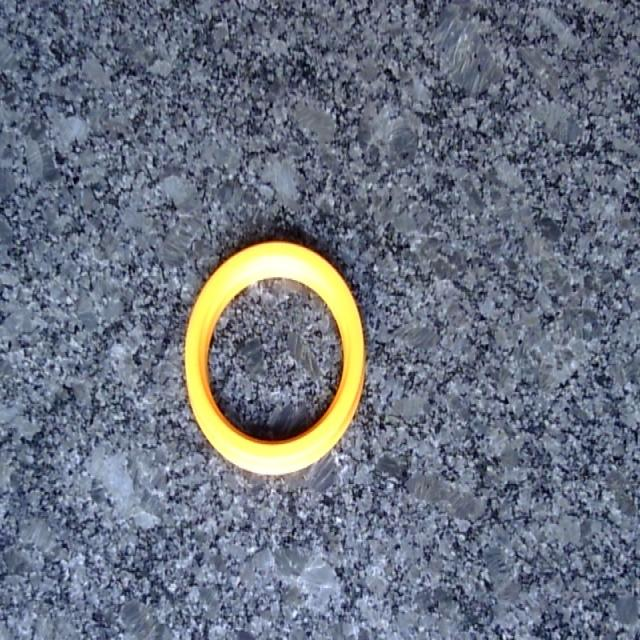orange-L-ring: (186, 242, 365, 475)
